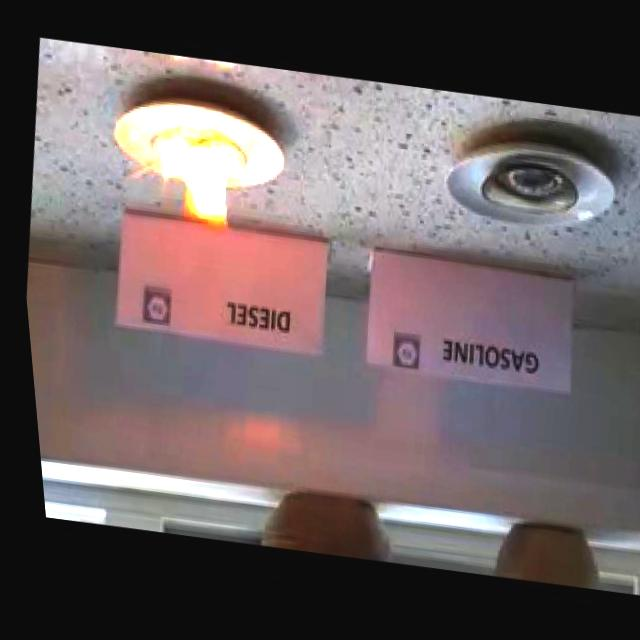Fire: (143, 125, 242, 237)
